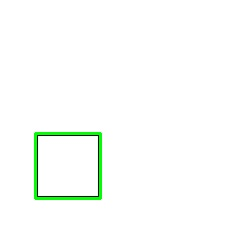line_segment: (34, 132, 102, 200)
